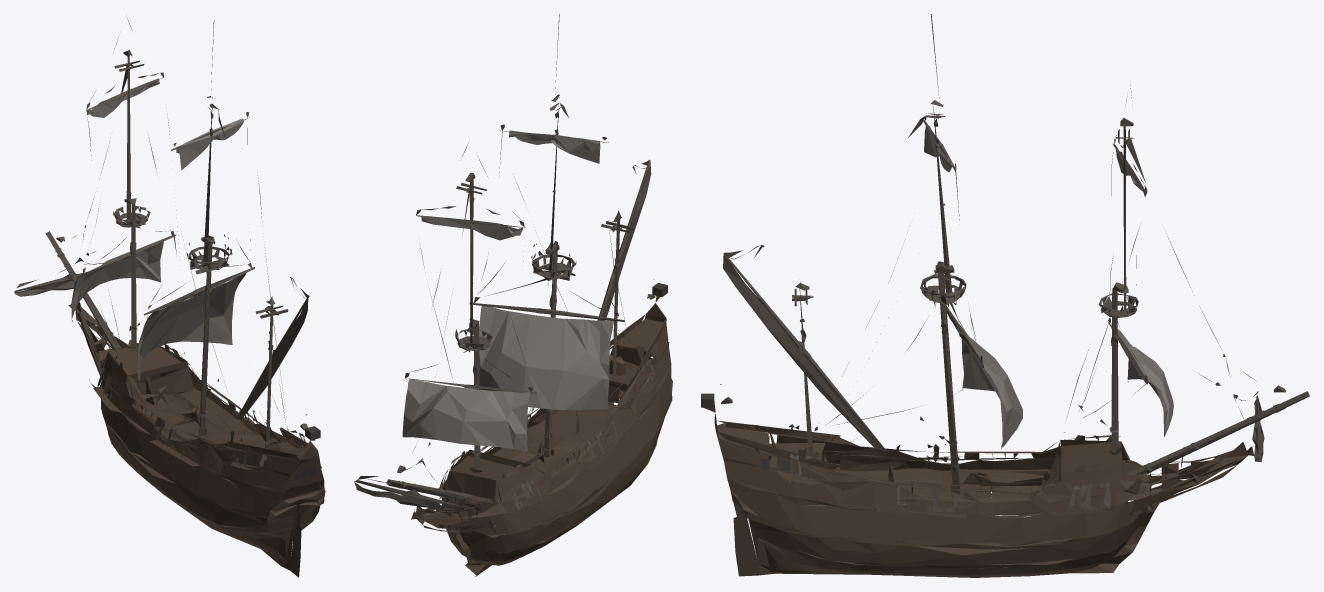
File: ship-lod1.glb
The picture shows the model from 3 angles, left to right: view 1: azimuth 30°, elevation 25°; view 2: azimuth 150°, elevation 25°; view 3: azimuth 270°, elevation 25°; orthographic projection. The views are drawn at different scales.
Size of the model in its own units: 6.79 by 24.54 by 24.09.
